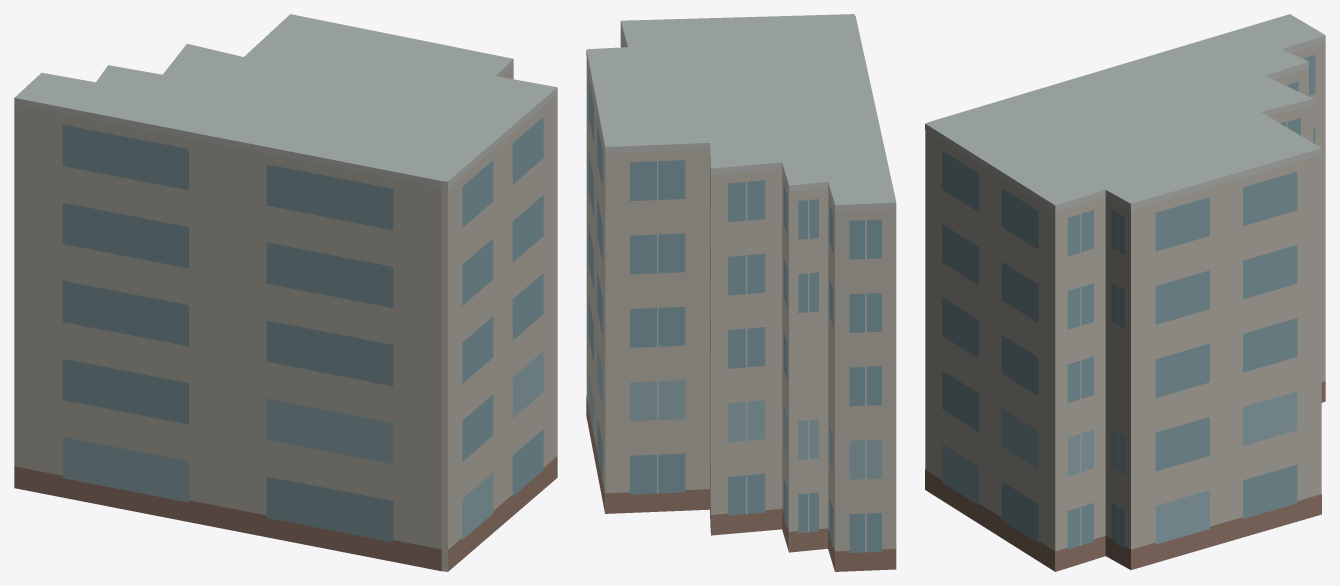
The model's file is survey-upis-32679387.glb.
3 renders of one model, left to right at view 1: azimuth 30°, elevation 25°; view 2: azimuth 150°, elevation 25°; view 3: azimuth 270°, elevation 25°, orthographic. The views are drawn at different scales.
Visible parts, largest first — view 1: survey-upis-32679387.tmp; view 2: survey-upis-32679387.tmp; view 3: survey-upis-32679387.tmp.
Boxes of the visible parts, x1,y1,x2,y2 form: survey-upis-32679387.tmp: [14, 14, 557, 571]; survey-upis-32679387.tmp: [586, 14, 896, 571]; survey-upis-32679387.tmp: [925, 14, 1325, 571].
Size of the model in its own units: 16.28 by 14.5 by 14.38.
